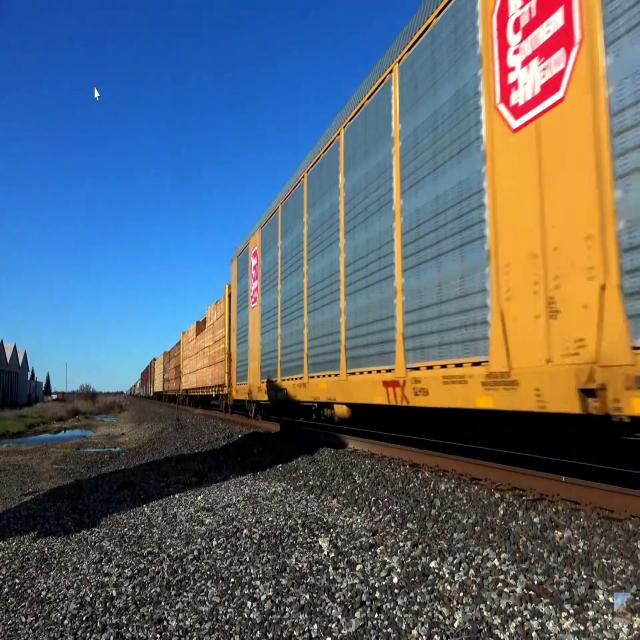autorack: (229, 0, 640, 479)
cargo: (182, 294, 226, 388)
flatcar_bulkhead: (181, 278, 231, 412)
